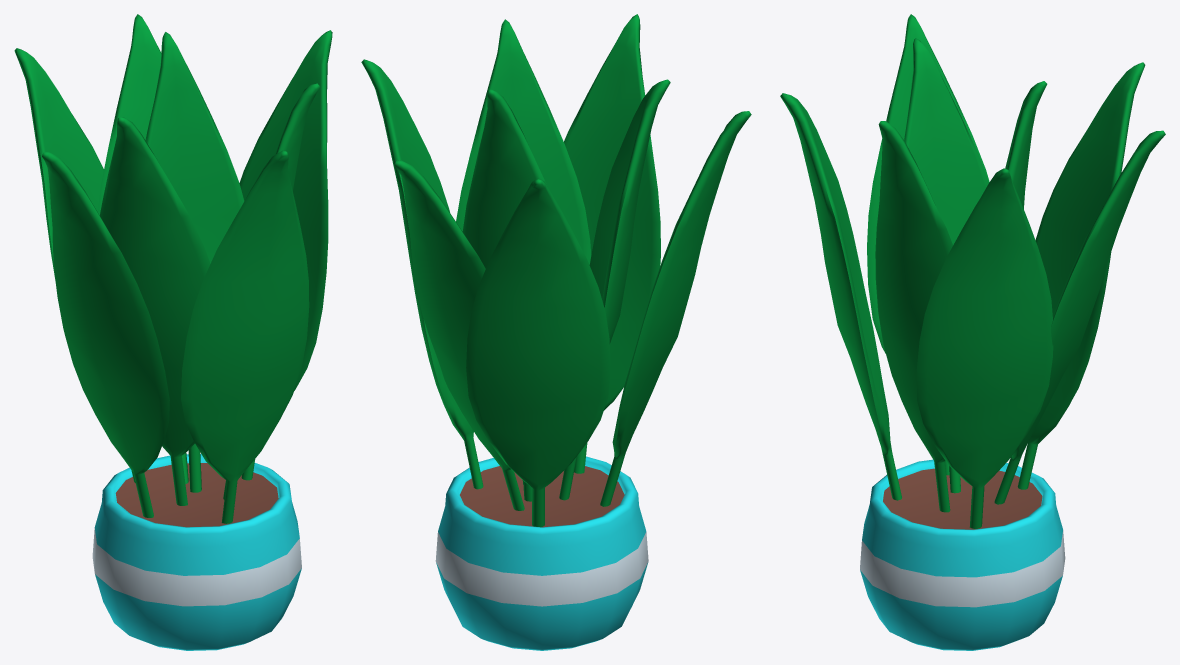
File: Store_6_Plant_9.glb
3 views of the same model, side by side, from view 1: azimuth 30°, elevation 25°; view 2: azimuth 150°, elevation 25°; view 3: azimuth 270°, elevation 25° (orthographic). The views are drawn at different scales.
Visible parts, largest first — view 1: Store_6_Plant_9; view 2: Store_6_Plant_9; view 3: Store_6_Plant_9.
Boxes of the visible parts, x1,y1,x2,y2 form: Store_6_Plant_9: (14,14,332,650); Store_6_Plant_9: (361,14,751,650); Store_6_Plant_9: (780,14,1165,650).
Size of the model in its own units: 1.08 by 1.68 by 1.08.
Materials: 1 (1 with a texture image).
